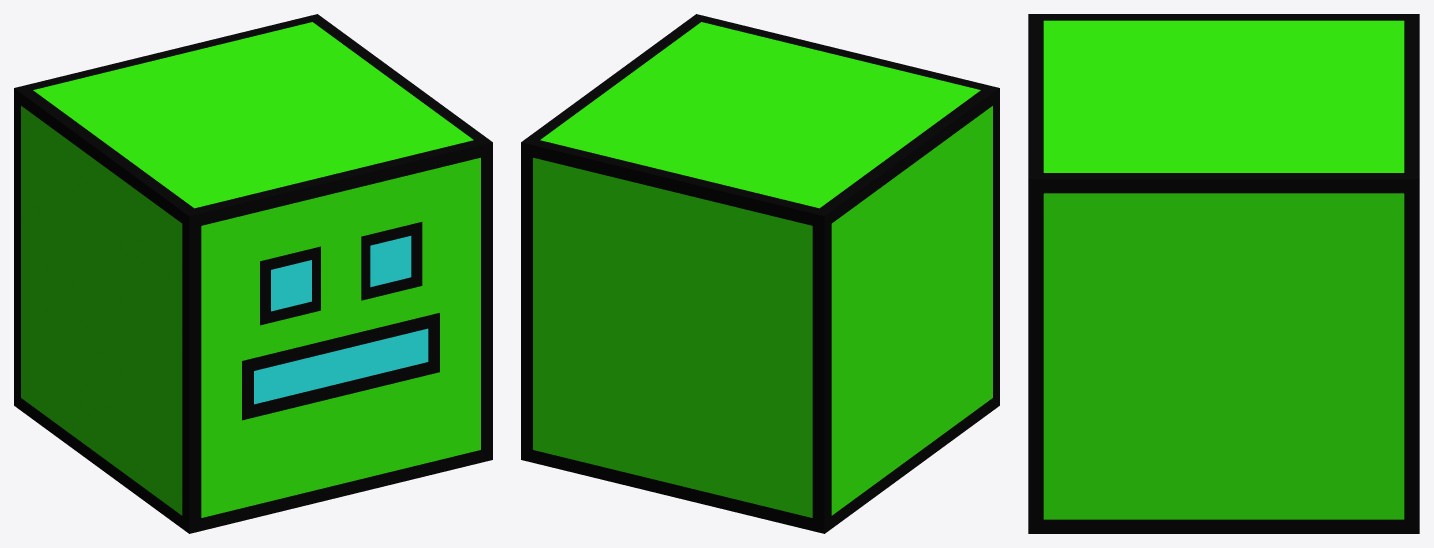
3 views of the same model, side by side, from view 1: azimuth 30°, elevation 25°; view 2: azimuth 150°, elevation 25°; view 3: azimuth 270°, elevation 25° (orthographic). The views are drawn at different scales.
Visible parts, largest first — view 1: GD Cube 04_0; view 2: GD Cube 04_0; view 3: GD Cube 04_0.
Part boxes in pixels (x1,y1,x2,y2): GD Cube 04_0: (14, 14, 492, 533); GD Cube 04_0: (521, 14, 999, 533); GD Cube 04_0: (1028, 14, 1419, 533).
Bounding box in the file's own units: 2 × 2 × 2.
